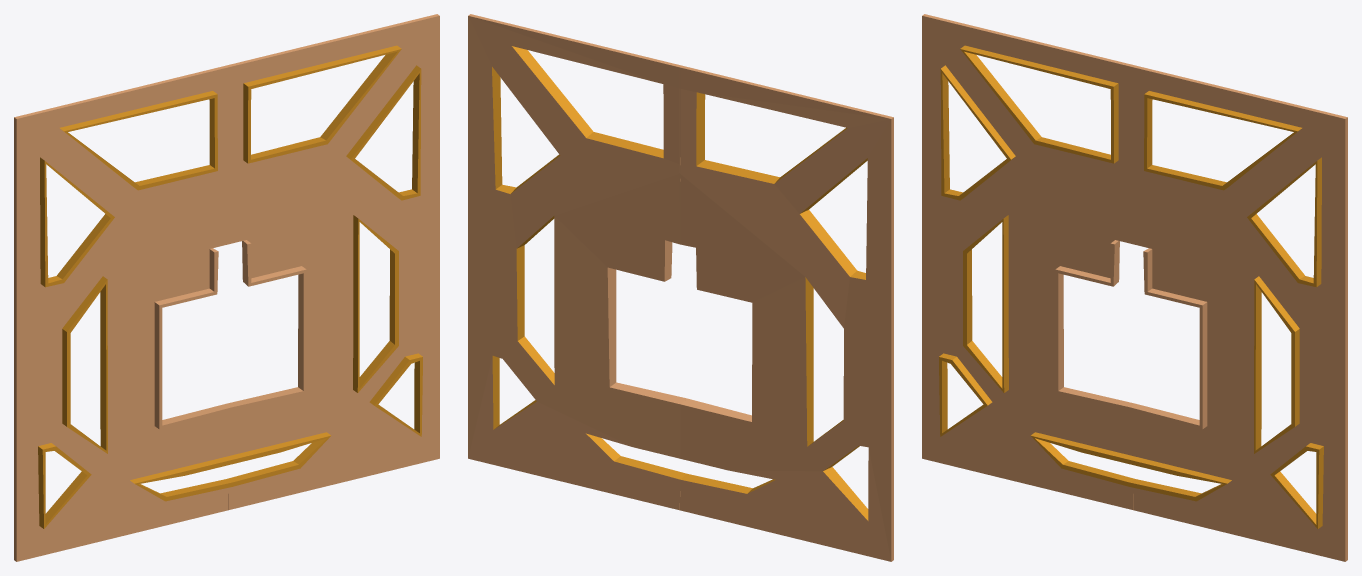
Rendered from pracabase.fbx.
3 renders of one model, left to right at view 1: azimuth 30°, elevation 25°; view 2: azimuth 150°, elevation 25°; view 3: azimuth 330°, elevation 25°, orthographic.
Visible parts, largest first — view 1: Plane.007; view 2: Plane.007; view 3: Plane.007.
Boxes of the visible parts, x1=… form: Plane.007: x1=14, y1=14, x2=439, y2=561; Plane.007: x1=468, y1=14, x2=893, y2=561; Plane.007: x1=922, y1=14, x2=1347, y2=561.
Bounding box in the file's own units: 517 × 517 × 15.17.
